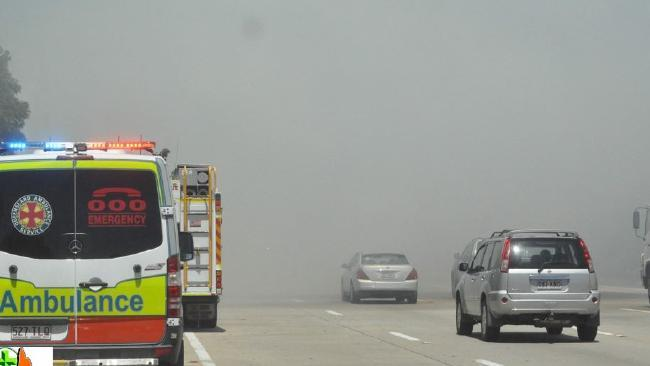bus: (85, 147, 222, 330), (633, 201, 650, 306)
car: (1, 140, 193, 366), (455, 228, 601, 342), (451, 238, 552, 300), (340, 251, 419, 304)
